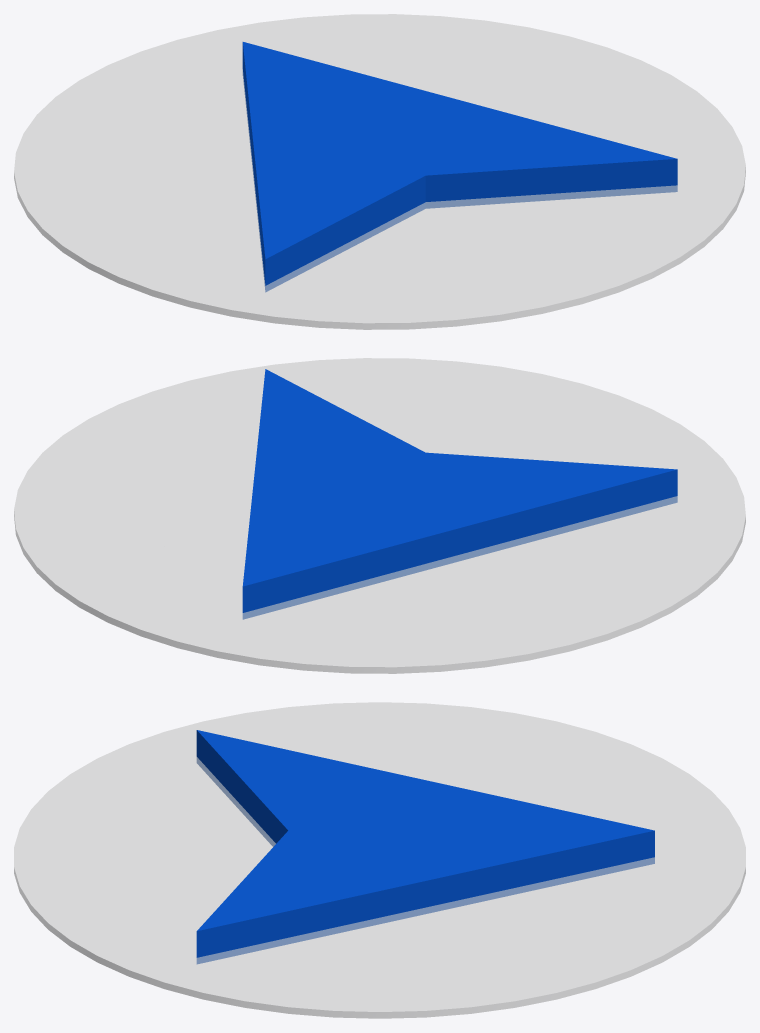
The model's file is Cursor.glb.
3 views of the same model, one above another, from view 1: azimuth 30°, elevation 25°; view 2: azimuth 150°, elevation 25°; view 3: azimuth 270°, elevation 25° (orthographic).
Visible parts, largest first — view 1: Cylinder, Arrow; view 2: Cylinder, Arrow; view 3: Cylinder, Arrow.
Part boxes in pixels (x1,y1,x2,y2): Cylinder: [14, 14, 745, 329]; Arrow: [242, 42, 677, 291]; Cylinder: [14, 358, 745, 673]; Arrow: [242, 369, 677, 619]; Cylinder: [14, 702, 745, 1018]; Arrow: [196, 730, 654, 963].
Bounding box in the file's own units: 200 × 10 × 200.
